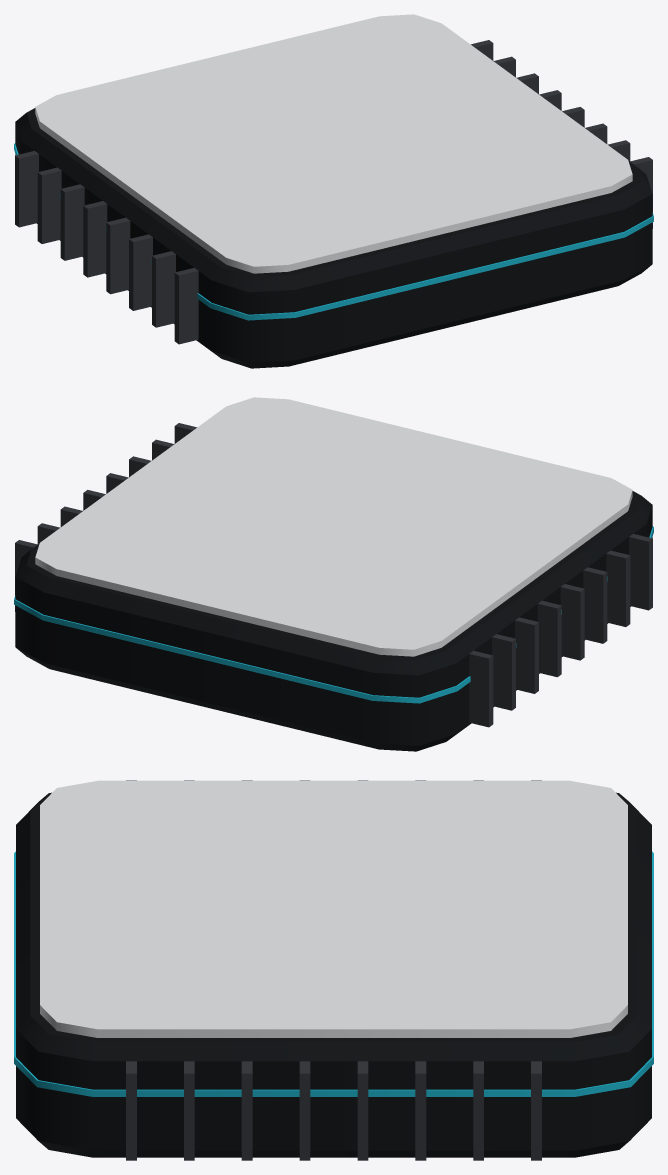
File: c1_transceiver.obj
The picture shows the model from 3 angles, top to bottom: view 1: azimuth 30°, elevation 25°; view 2: azimuth 150°, elevation 25°; view 3: azimuth 270°, elevation 25°; orthographic projection. The views are drawn at different scales.
Parts seen in each view (by area): view 1: c1_transceiver; view 2: c1_transceiver; view 3: c1_transceiver.
Part boxes in pixels (box(x1,y1,x2,y2)): c1_transceiver: box(14, 14, 653, 368); c1_transceiver: box(14, 397, 653, 751); c1_transceiver: box(14, 780, 653, 1160).
Size of the model in its own units: 1.44 by 0.285 by 1.33.
